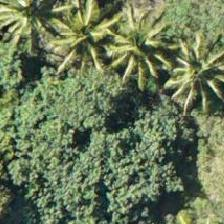coconut_tree: (172, 20, 223, 110)
